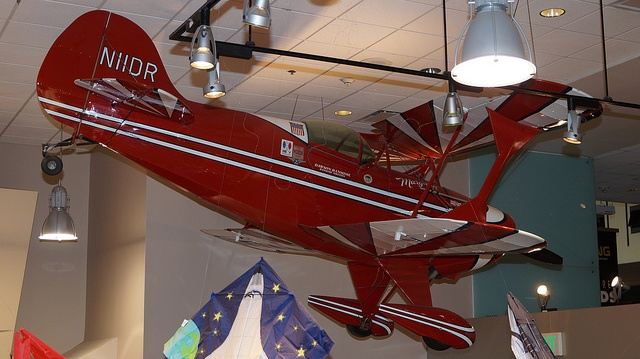airplane: (36, 7, 640, 358)
